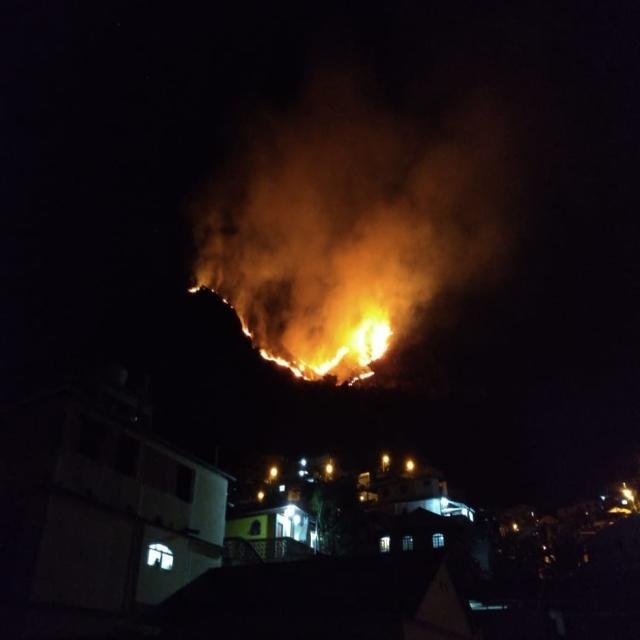Fire: (353, 303, 394, 367), (323, 346, 348, 372), (298, 356, 324, 374), (272, 354, 290, 368), (240, 316, 252, 334), (259, 348, 272, 362), (188, 282, 200, 294), (358, 371, 376, 378), (291, 368, 302, 378), (348, 376, 359, 386), (222, 298, 233, 306), (303, 376, 310, 380)
Smoke: (346, 148, 502, 298), (238, 155, 344, 310), (196, 200, 240, 286), (286, 311, 336, 352), (398, 289, 428, 334)
